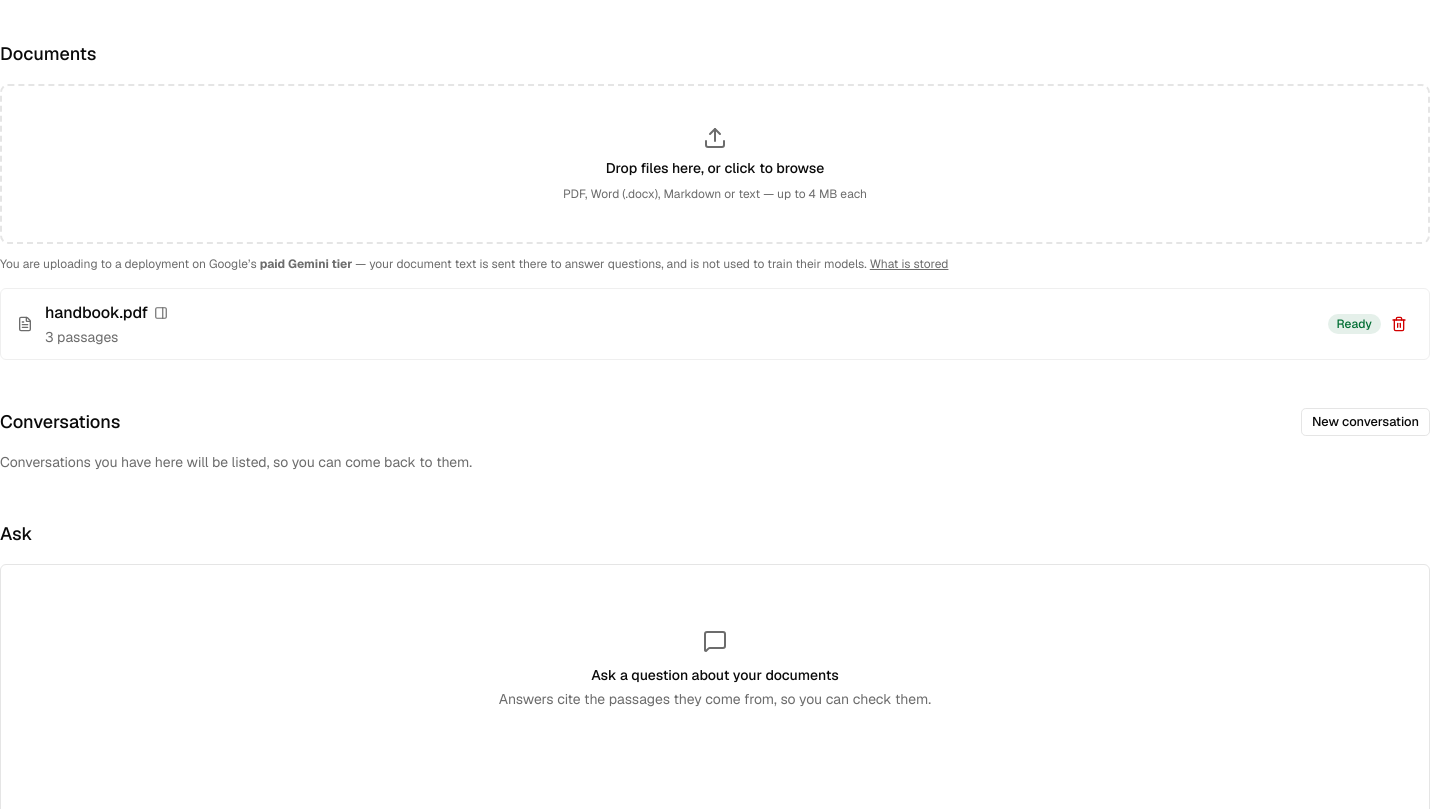
a delete or retry that fails › says what to do when a delete was refused because the session ended
The image size is (1440, 809).
Click the button named "Delete handbook.pdf": (1399, 324) top-left (1385, 310), bottom-right (1413, 338)
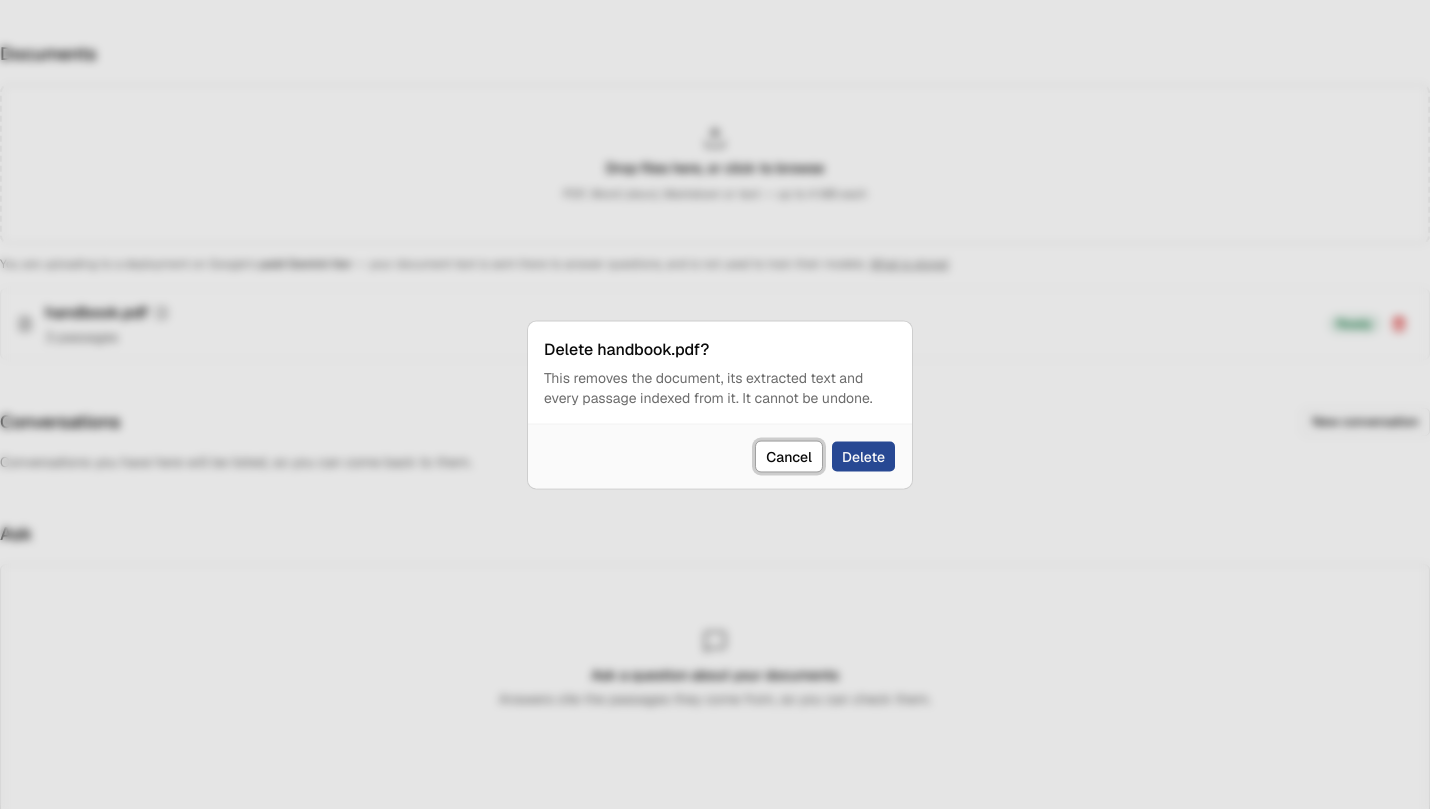
Click the button "Delete": (863, 456) top-left (831, 440), bottom-right (896, 472)
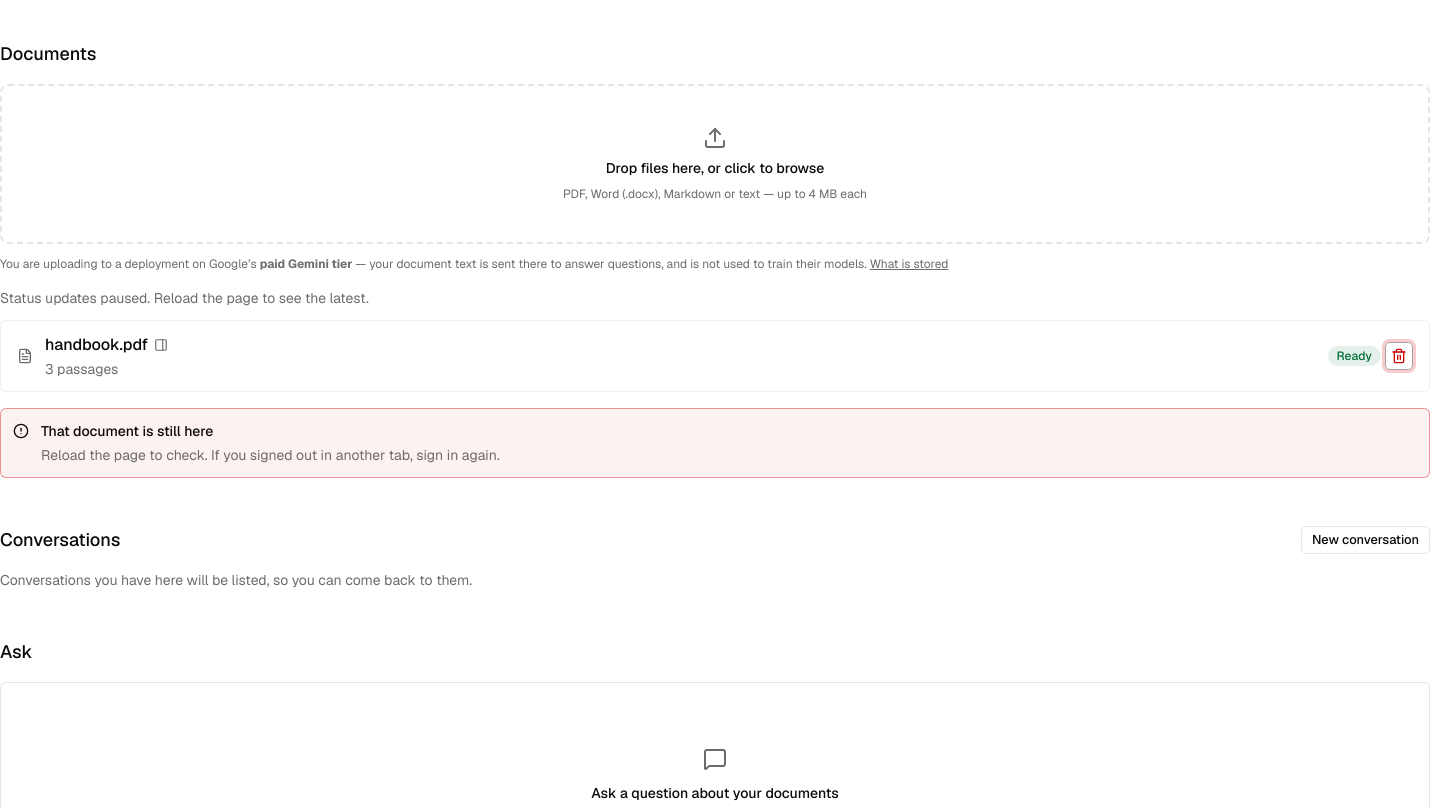
expect the text "That document is still here" shows "Reload the page to check. If you signed out in another tab, sign in again.": met, box top-left (41, 446), bottom-right (500, 464)
